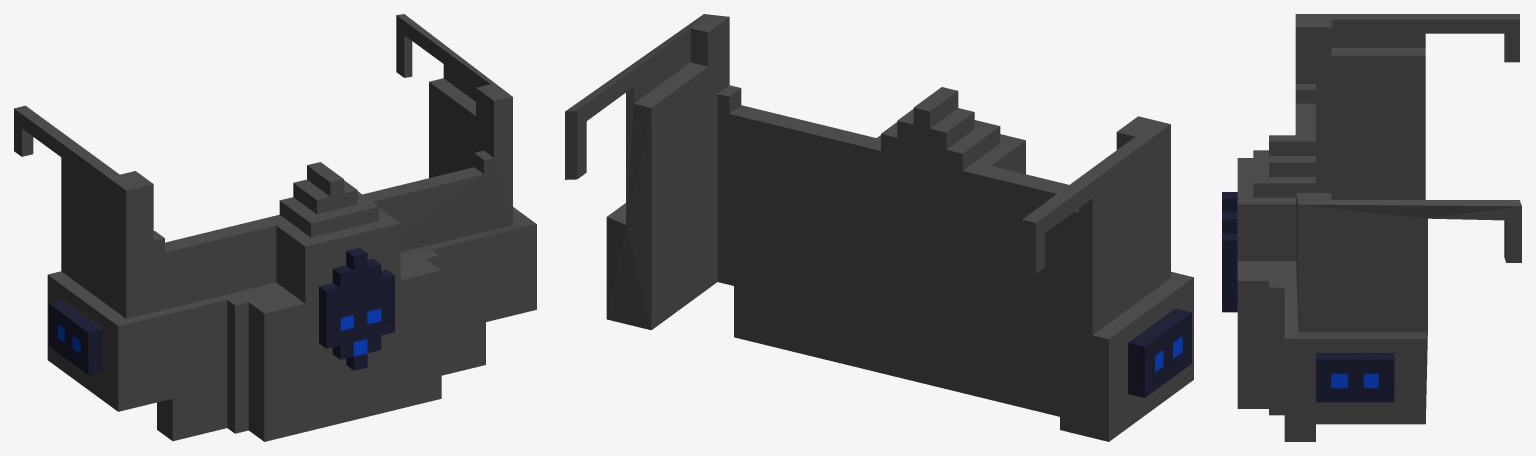
The model's file is buddies_generator_json.glb.
3 views of the same model, side by side, from view 1: azimuth 30°, elevation 25°; view 2: azimuth 150°, elevation 25°; view 3: azimuth 270°, elevation 25° (orthographic). The views are drawn at different scales.
Parts seen in each view (by area): view 1: iron_mask.001; view 2: iron_mask.001; view 3: iron_mask.001.
Boxes of the visible parts, x1=… form: iron_mask.001: x1=14, y1=14, x2=536, y2=441; iron_mask.001: x1=565, y1=14, x2=1193, y2=441; iron_mask.001: x1=1222, y1=14, x2=1521, y2=441.
Size of the model in its own units: 3.28 by 1.8 by 1.91.
1 material, 1 textured.
